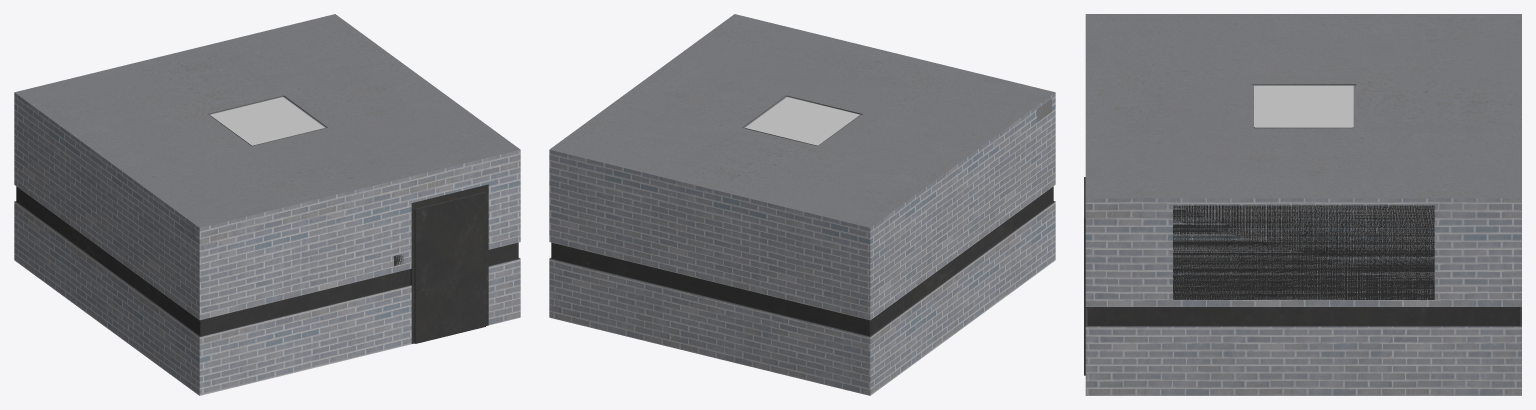
The model's file is interrogation.obj.
3 renders of one model, left to right at view 1: azimuth 30°, elevation 25°; view 2: azimuth 150°, elevation 25°; view 3: azimuth 270°, elevation 25°, orthographic. The views are drawn at different scales.
Visible parts, largest first — view 1: interrogation, door, slope; view 2: interrogation; view 3: interrogation, mirror, door.
Boxes of the visible parts, x1,y1,x2,y2 form: interrogation: [14, 14, 520, 395]; door: [414, 192, 485, 343]; slope: [410, 184, 488, 343]; interrogation: [549, 14, 1055, 395]; interrogation: [1085, 14, 1521, 395]; mirror: [1173, 205, 1434, 299]; door: [1084, 177, 1085, 375].
Size of the model in its own units: 5 by 2.5 by 5.02.
Materials: 6 (3 with a texture image).
